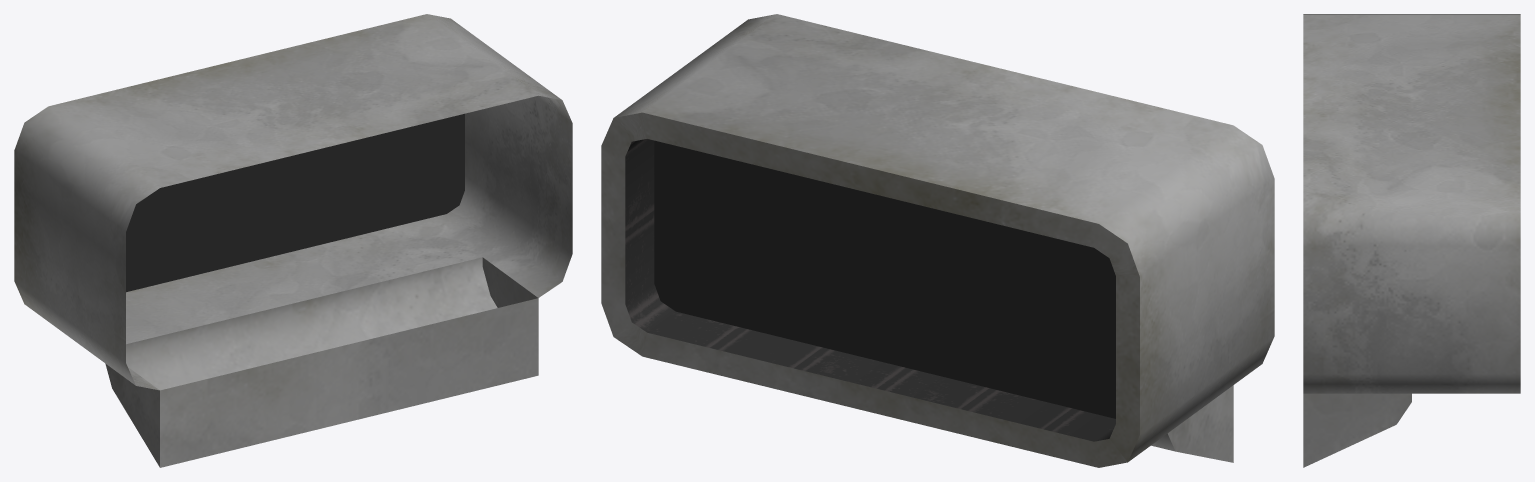
File: cabletray_wall_hole.fbx
3 views of the same model, side by side, from view 1: azimuth 30°, elevation 25°; view 2: azimuth 150°, elevation 25°; view 3: azimuth 270°, elevation 25° (orthographic). The views are drawn at different scales.
Parts seen in each view (by area): view 1: Cube; view 2: Cube; view 3: Cube.
Boxes of the visible parts, x1,y1,x2,y2 form: Cube: (14,14,572,467); Cube: (601,14,1274,467); Cube: (1303,14,1520,467).
Bounding box in the file's own units: 0.7293 × 0.3159 × 0.4369.
